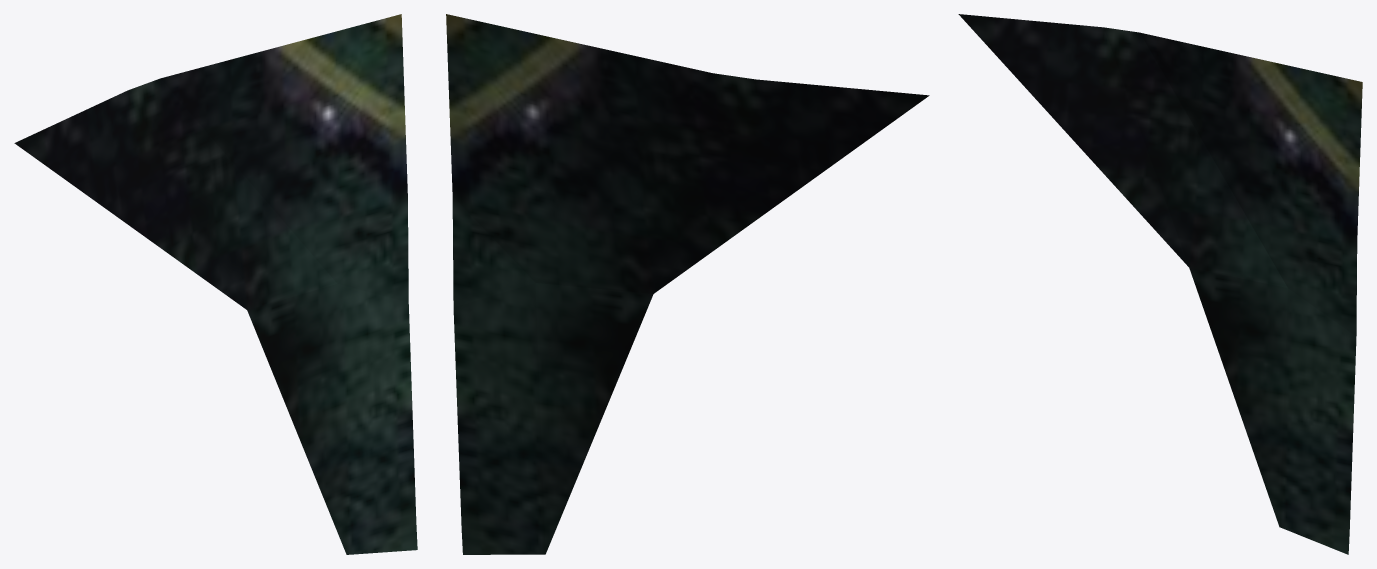
3 views of the same model, side by side, from view 1: azimuth 30°, elevation 25°; view 2: azimuth 150°, elevation 25°; view 3: azimuth 330°, elevation 25° (orthographic). The views are drawn at different scales.
Parts seen in each view (by area): view 1: 0_0_1_2_3_2; view 2: 0_0_1_2_3_2; view 3: 0_0_1_2_3_2.
Part boxes in pixels (x1,y1,x2,y2): 0_0_1_2_3_2: (14, 14, 417, 554); 0_0_1_2_3_2: (446, 14, 929, 554); 0_0_1_2_3_2: (958, 14, 1362, 554).
Size of the model in its own units: 70.22 by 83.2 by 10.22.
Materials: 1 (1 with a texture image).
